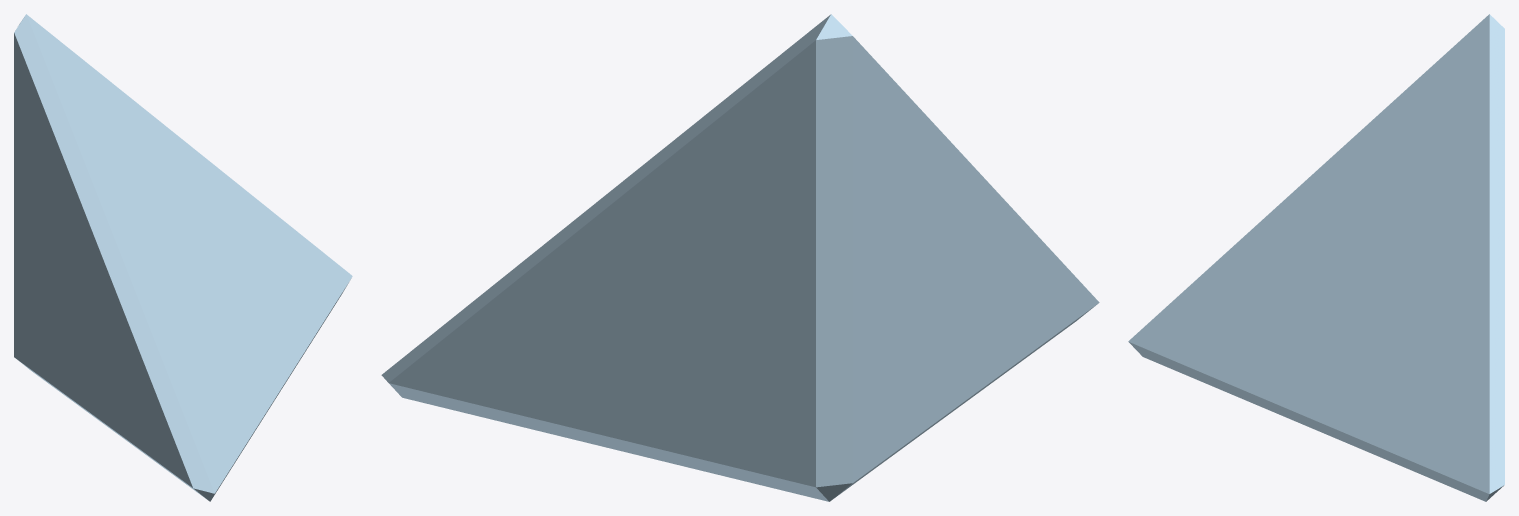
File: R4B_Tetra_LOD1.glb
3 views of the same model, side by side, from view 1: azimuth 30°, elevation 25°; view 2: azimuth 150°, elevation 25°; view 3: azimuth 270°, elevation 25° (orthographic). The views are drawn at different scales.
Visible parts, largest first — view 1: R4B_Tetra_LOD1; view 2: R4B_Tetra_LOD1; view 3: R4B_Tetra_LOD1.
Boxes of the visible parts, x1=… form: R4B_Tetra_LOD1: x1=14, y1=14, x2=352, y2=501; R4B_Tetra_LOD1: x1=381, y1=14, x2=1099, y2=501; R4B_Tetra_LOD1: x1=1128, y1=14, x2=1504, y2=501.
Bounding box in the file's own units: 0.4808 × 0.4808 × 0.4808.
